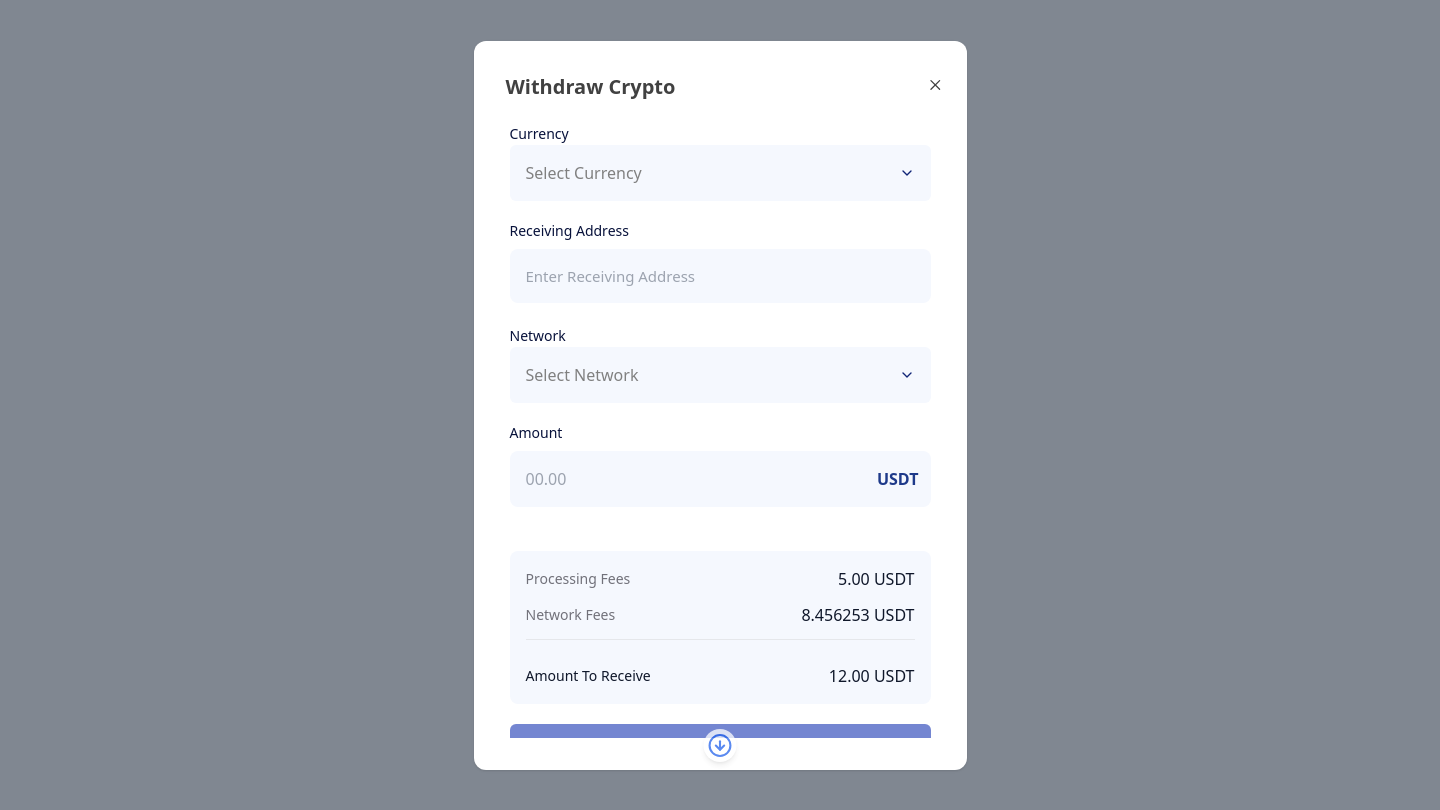
Test: Withdraw page end-to-end validations › shows error when amount is below minimum withdrawal
Click the element with test id "Select Currency": coordinates (720, 172) [510, 144, 930, 200]
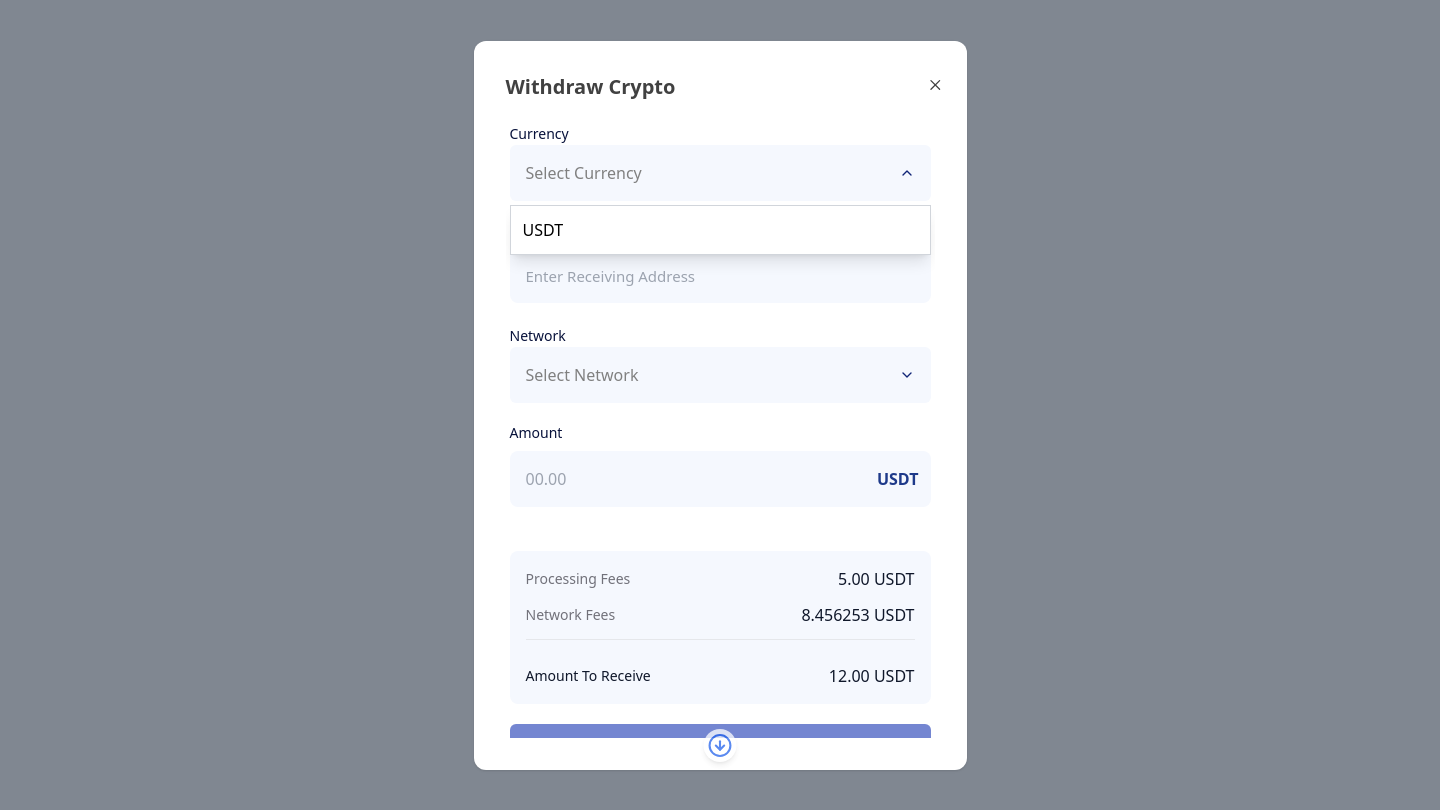
Click the list item with test id "USDT button": coordinates (543, 230) [522, 218, 563, 240]
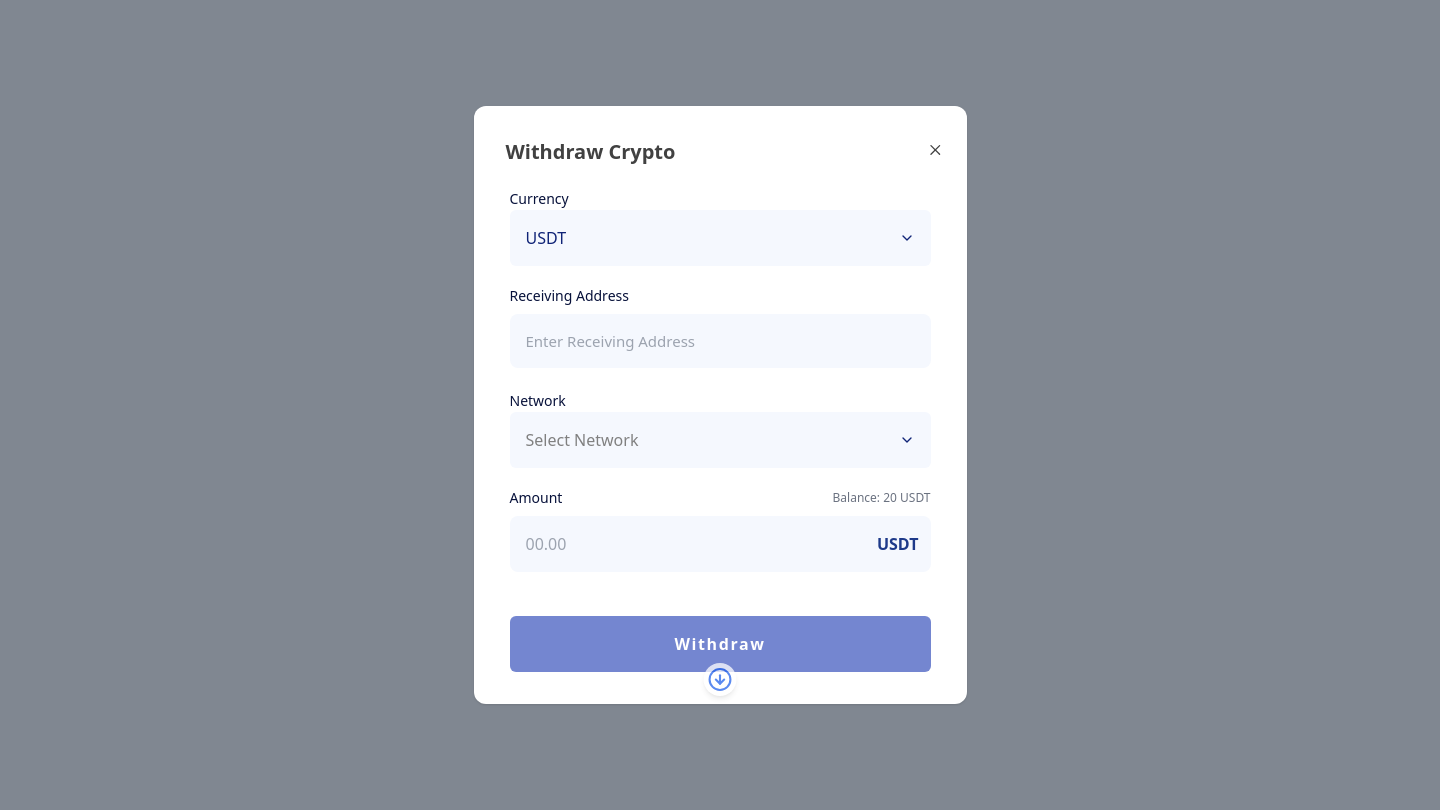
In the number field with placeholder "00.00": coordinates (720, 544) [510, 516, 930, 572], type "4"
Wait 1000 ms
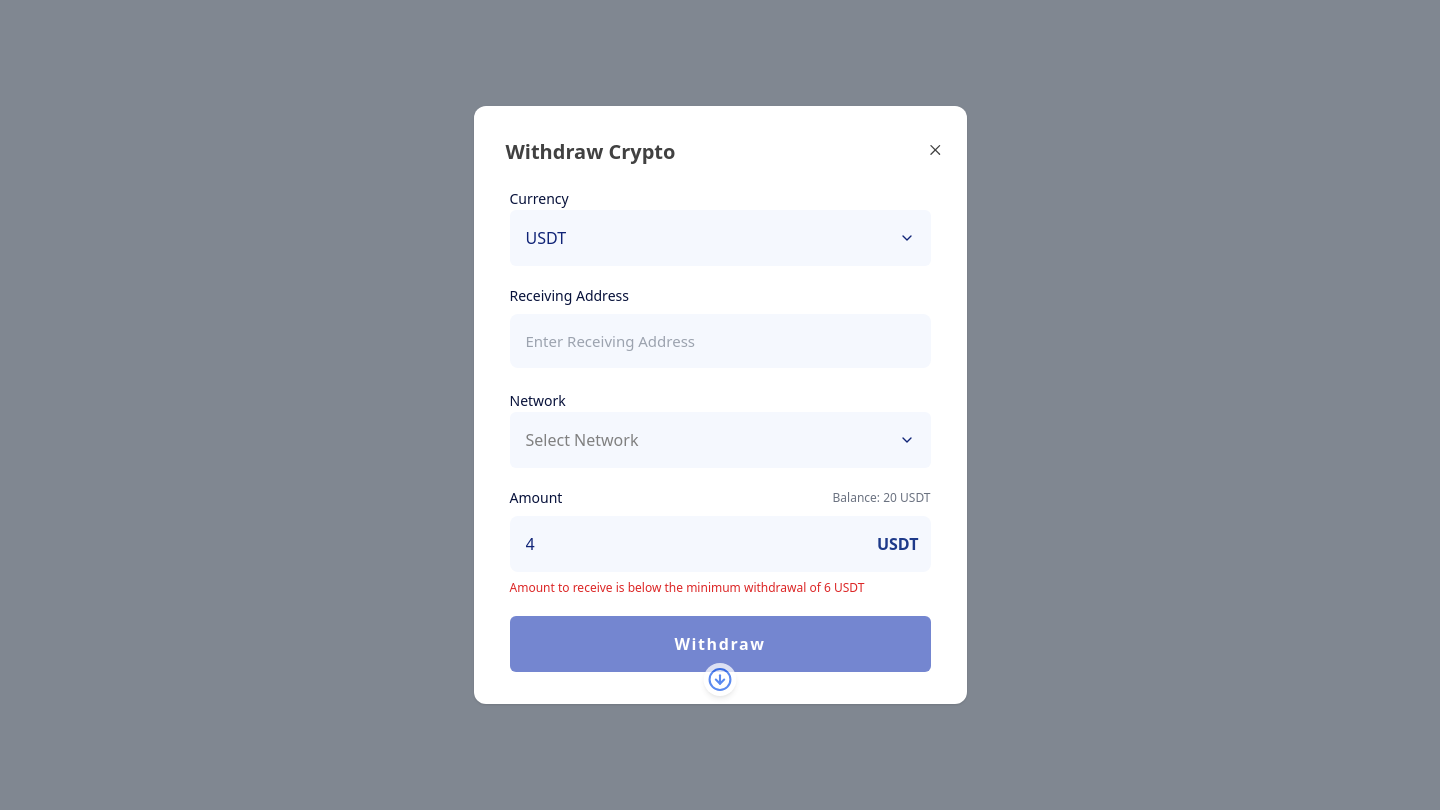
Now the text "Amount to receive is below the minimum withdrawal of 6 USDT" is shown, box [510, 579, 864, 596]
